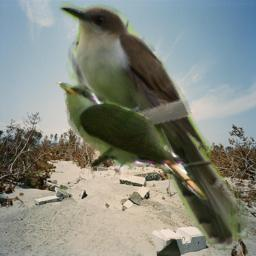Cuckoo: (57, 0, 248, 250), (55, 82, 211, 201)
